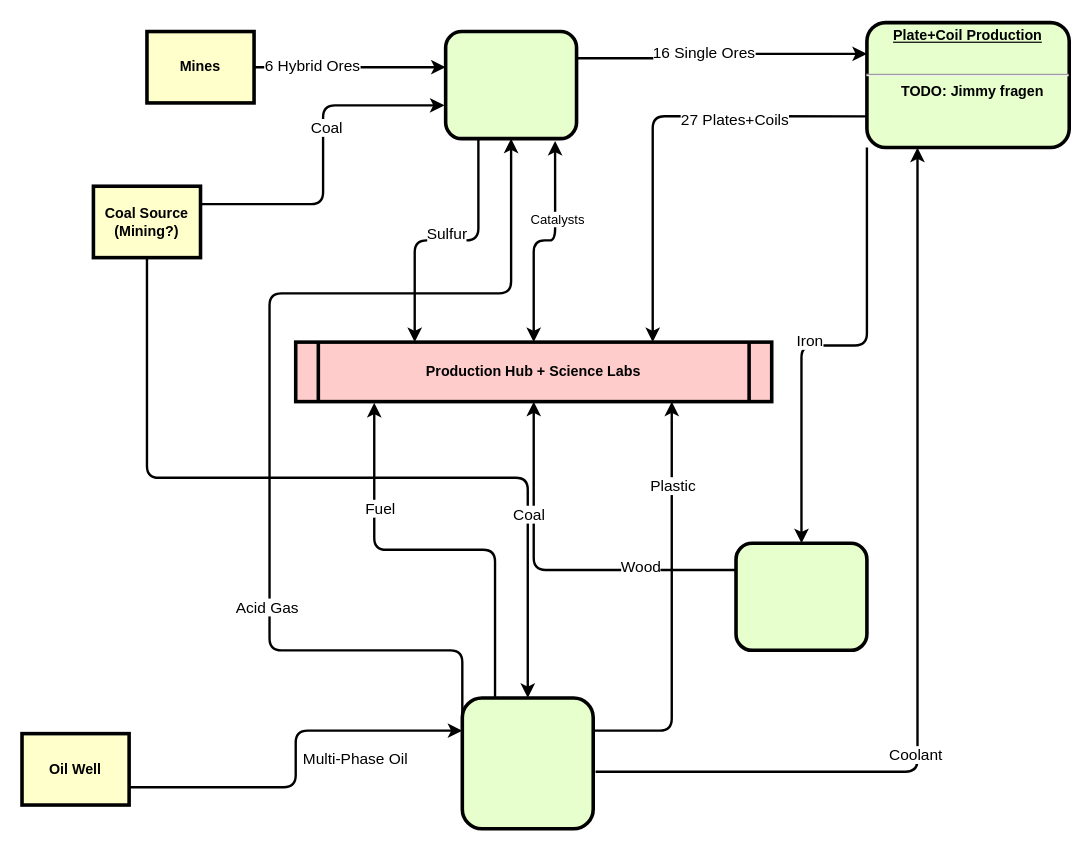
Image size: 1091x851. Some labels were removed from this diagram. The shapes that lost their labels are listed below. From the top down, each one's centre as x and y in pixels, then its label:
point 510,84: Ore Refinery Link Todo: Acids
point 801,596: Greenhouses
point 527,763: Oil Refining
